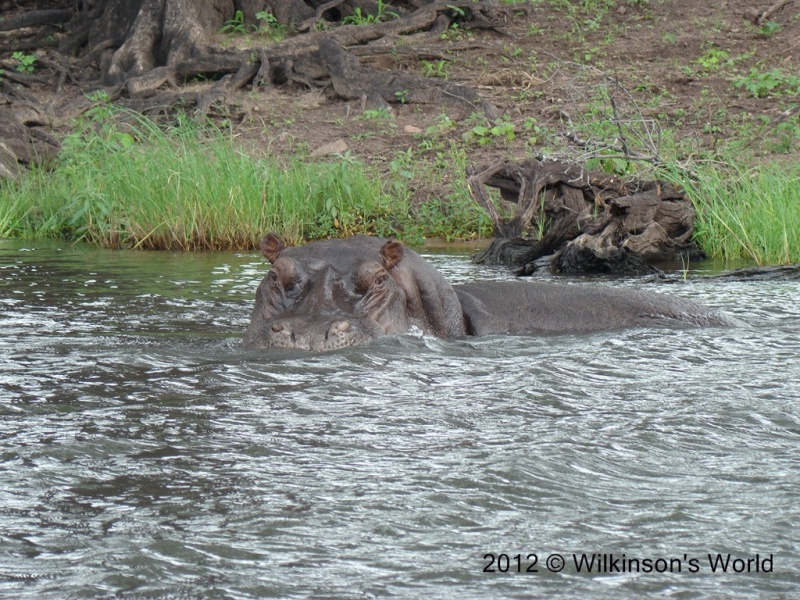hipopotamo: (233, 227, 630, 355)
